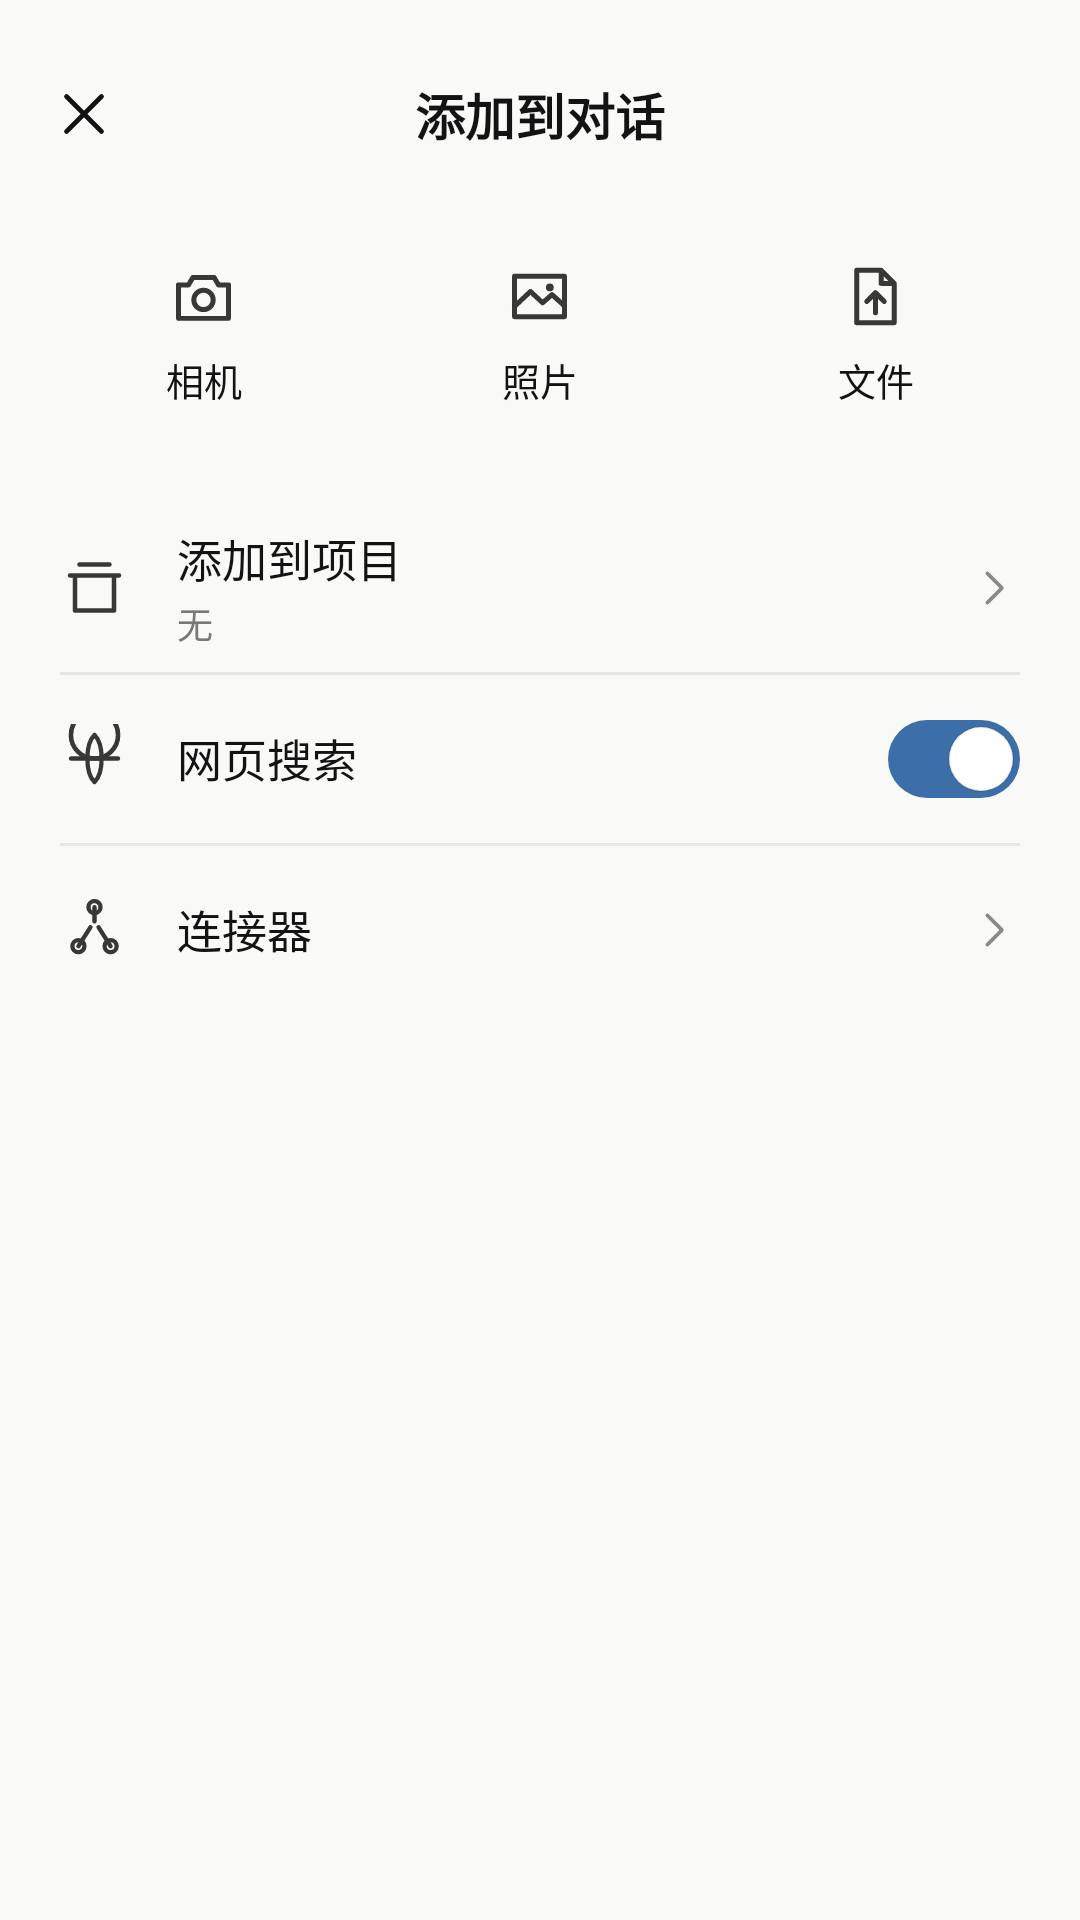

Screen size 1080 × 1920. Icon name, then its box in pixels as (x1, y1, x2, y2):
chevron right: (985, 571, 1004, 605), (985, 913, 1004, 947)
connector: (70, 899, 119, 955)
file upload: (854, 267, 897, 326)
关闭: (64, 94, 104, 134)
